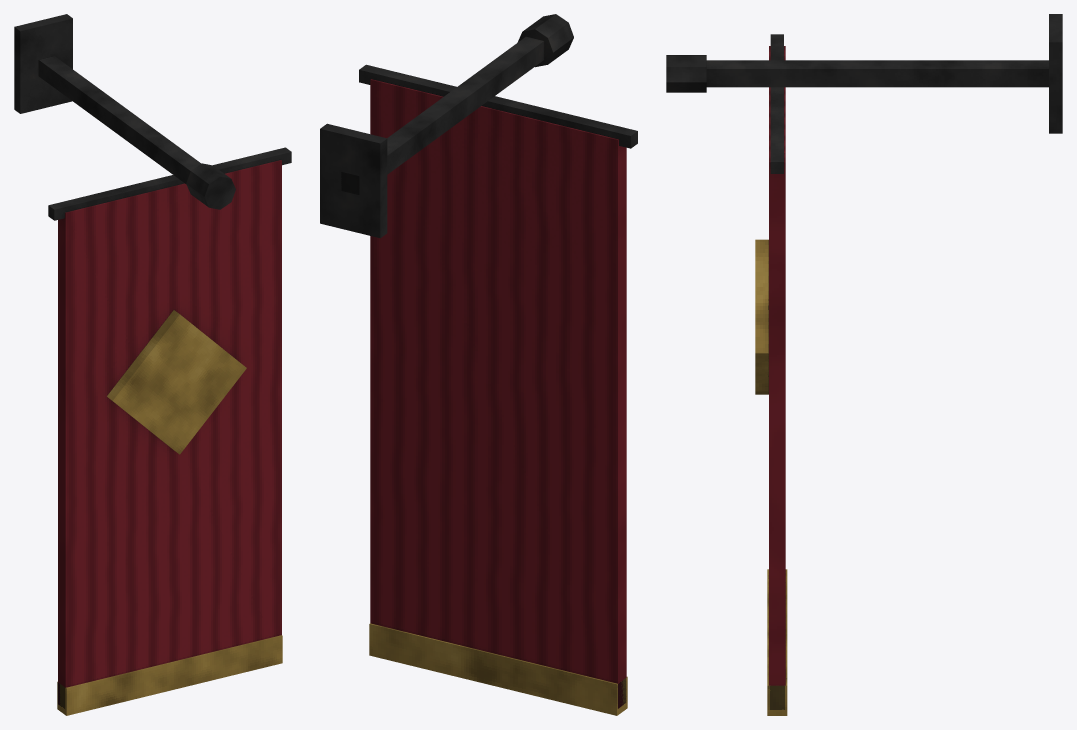
Rendered from siracusa_banner_saluzzo.glb.
The picture shows the model from 3 angles, left to right: view 1: azimuth 30°, elevation 25°; view 2: azimuth 150°, elevation 25°; view 3: azimuth 270°, elevation 25°; orthographic projection. The views are drawn at different scales.
Visible parts, largest first — view 1: siracusa_banner_saluzzo; view 2: siracusa_banner_saluzzo; view 3: siracusa_banner_saluzzo.
Part boxes in pixels (<box>): siracusa_banner_saluzzo: <box>14,14,291,715</box>; siracusa_banner_saluzzo: <box>320,14,637,715</box>; siracusa_banner_saluzzo: <box>666,14,1062,715</box>.
Size of the model in its own units: 0.9 by 2.07 by 1.18.
3 materials, 3 textured.
